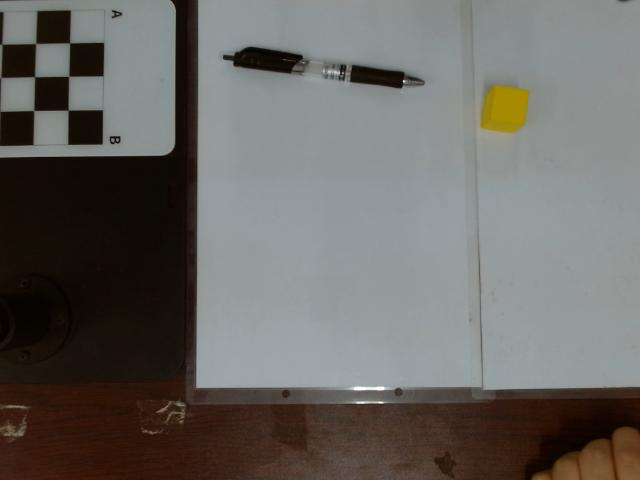PEN: (222, 44, 425, 96)
